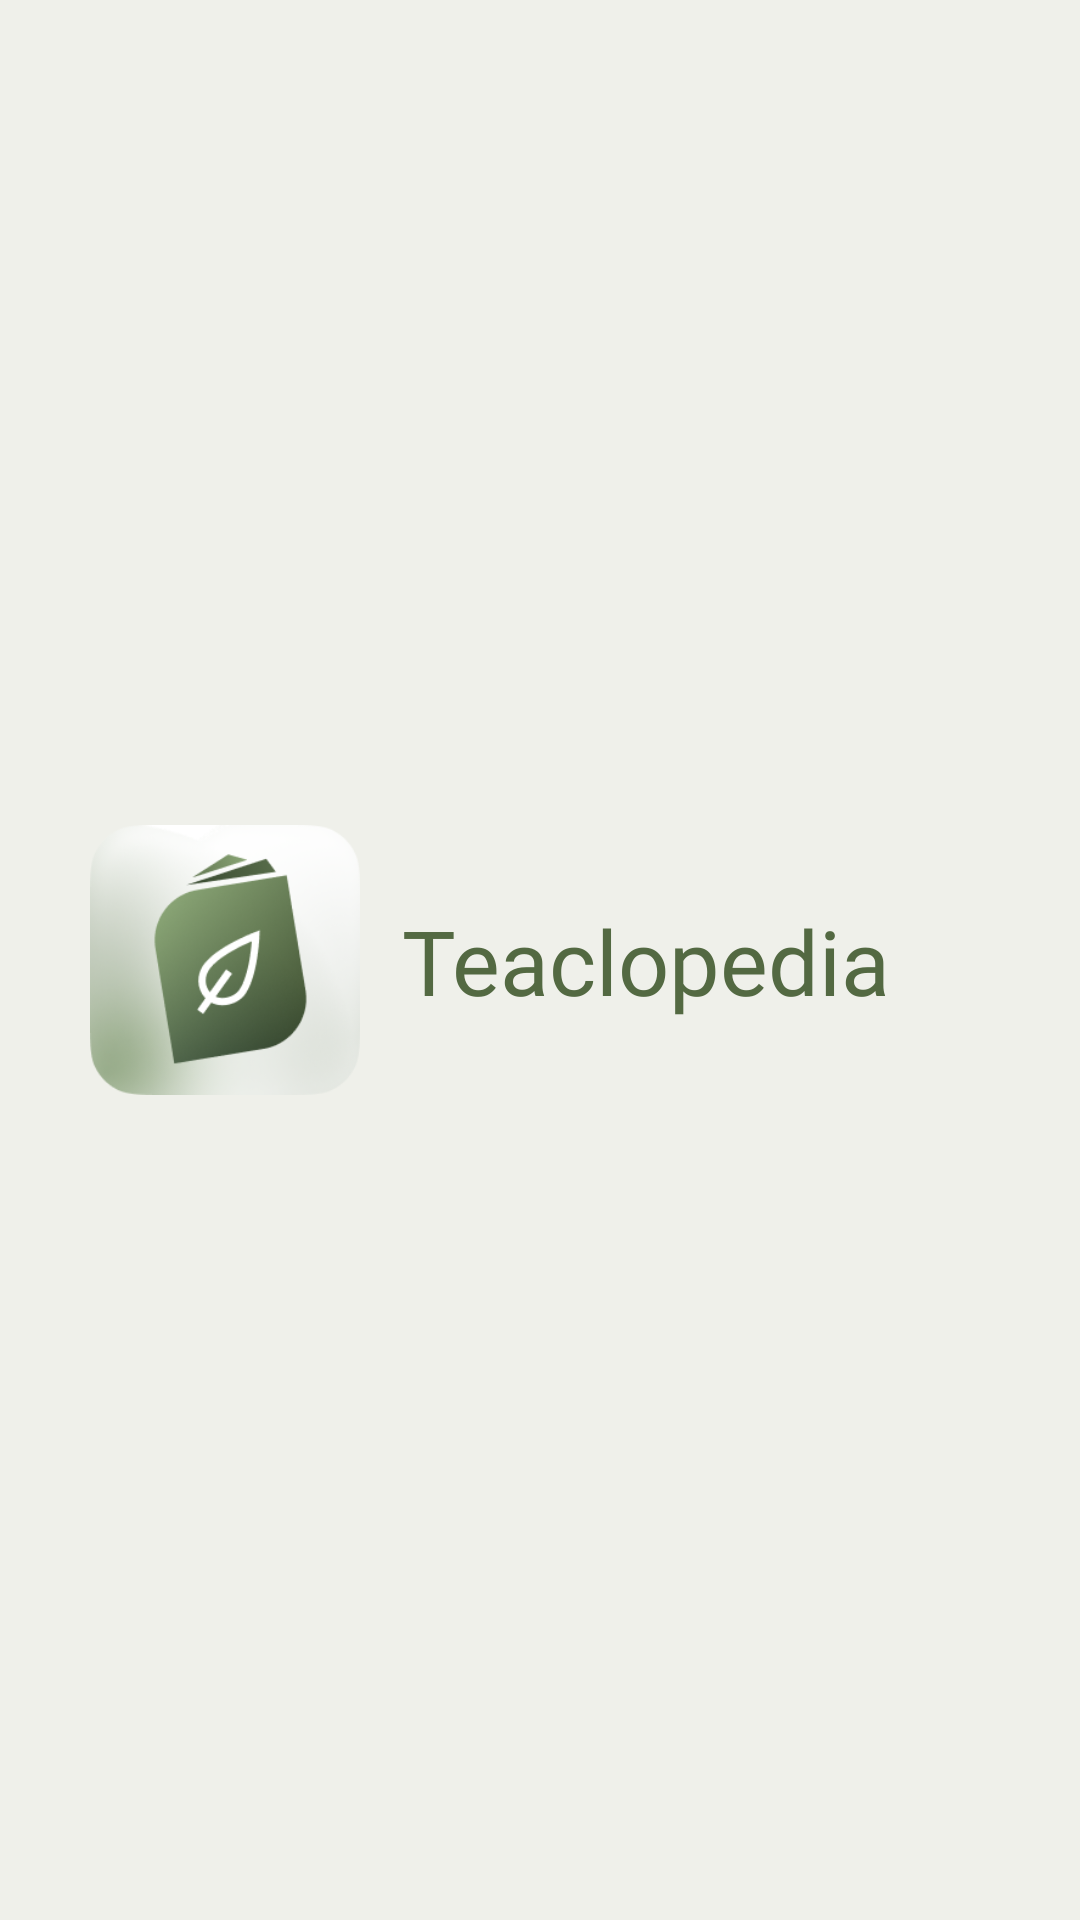

Named icons in this screenshot (1080*1920) and their bounding boxes, (x1, y1, x2, y2):
app: (90, 854, 307, 1095)
